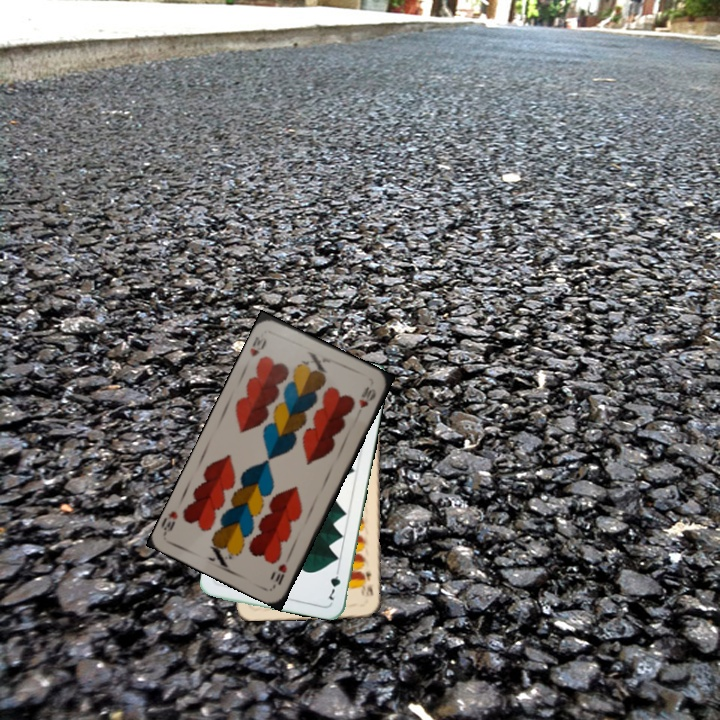E10: (359, 568, 375, 598)
G7: (325, 564, 343, 603)
H10: (246, 330, 269, 360), (271, 560, 290, 587)
